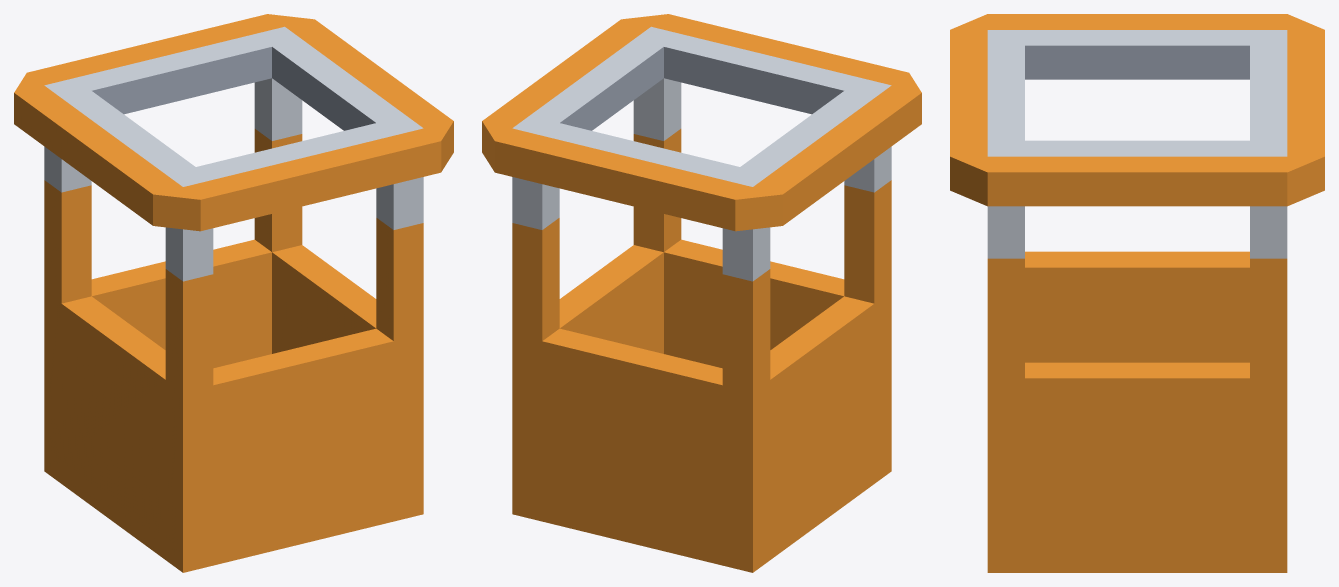
File: PlatformHole.fbx
3 views of the same model, side by side, from view 1: azimuth 30°, elevation 25°; view 2: azimuth 150°, elevation 25°; view 3: azimuth 270°, elevation 25° (orthographic). The views are drawn at different scales.
Parts seen in each view (by area): view 1: platform_low; view 2: platform_low; view 3: platform_low.
Part boxes in pixels (left/top/right/bottom): platform_low: left=14, top=14, right=453, bottom=572; platform_low: left=482, top=14, right=921, bottom=572; platform_low: left=950, top=14, right=1324, bottom=572.
Size of the model in its own units: 39.37 by 48.25 by 39.37.
